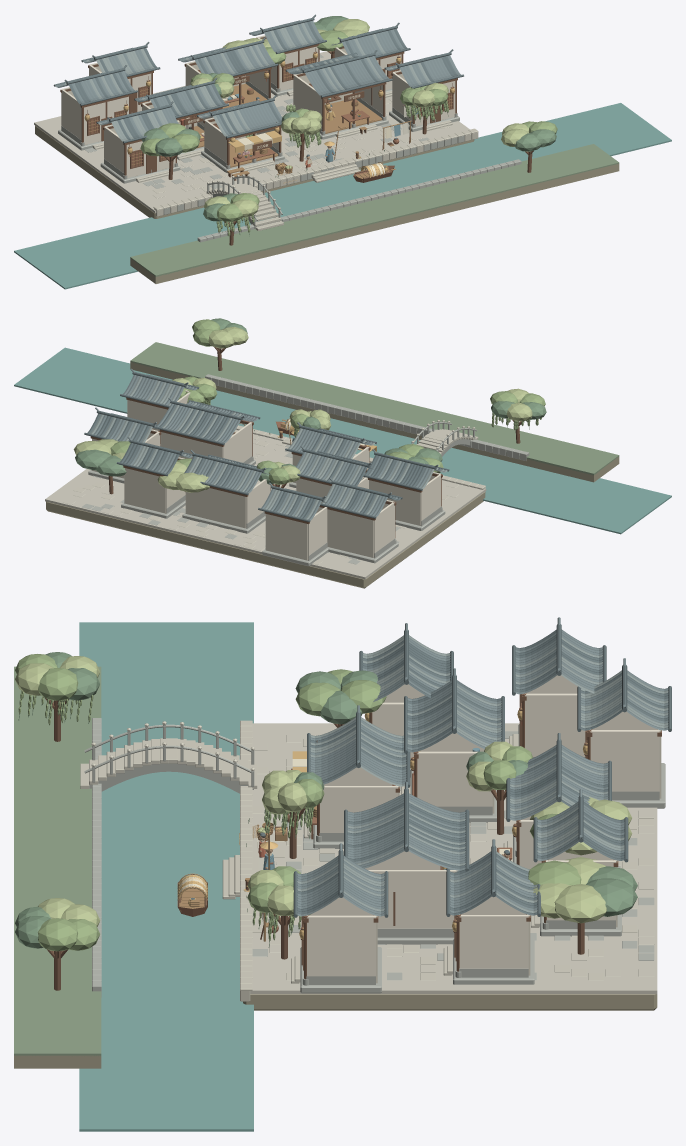
File: jinling.glb
3 renders of one model, top to bottom at view 1: azimuth 30°, elevation 25°; view 2: azimuth 150°, elevation 25°; view 3: azimuth 270°, elevation 25°, orthographic. The views are drawn at different scales.
Parts seen in each view (by area): view 1: static_canal_water, static_moss, static_street_paving, static_cut_earth, static_river_stone, static_worn_limestone, place_river_worn_limestone, place_tea_smoke_gray_roof, scenery_house_0_ivory_plaster, scenery_house_5_ivory_plaster, place_tea_ivory_plaster, place_cloth_wet_tile (+48 smaller); view 2: static_canal_water, static_moss, static_street_paving, static_cut_earth, static_river_stone, place_school_warm_lime_plaster, scenery_house_0_warm_lime_plaster, scenery_house_1_warm_lime_plaster, scenery_house_2_warm_lime_plaster, static_worn_limestone, place_tea_wet_tile, scenery_house_5_wet_tile (+51 smaller); view 3: static_canal_water, static_moss, static_street_paving, static_cut_earth, static_worn_limestone, place_river_worn_limestone, scenery_house_4_ivory_plaster, place_tea_ivory_plaster, static_river_stone, scenery_house_3_ivory_plaster, scenery_house_1_ivory_plaster, place_tea_smoke_gray_roof (+57 smaller).
Boxes of the visible parts, x1,y1,x2,y2 form: static_canal_water: [14, 103, 671, 289]; static_moss: [130, 144, 619, 276]; static_street_paving: [34, 51, 469, 213]; static_cut_earth: [35, 125, 619, 283]; static_river_stone: [85, 54, 521, 242]; static_worn_limestone: [152, 94, 478, 216]; place_river_worn_limestone: [206, 157, 360, 230]; place_tea_smoke_gray_roof: [287, 50, 389, 95]; scenery_house_0_ivory_plaster: [61, 89, 128, 144]; scenery_house_5_ivory_plaster: [104, 126, 175, 177]; place_tea_ivory_plaster: [293, 74, 382, 128]; place_cloth_wet_tile: [134, 81, 228, 118]; static_canal_water: [14, 347, 671, 534]; static_moss: [130, 342, 619, 475]; static_street_paving: [45, 429, 486, 579]; static_cut_earth: [46, 362, 619, 588]; static_river_stone: [82, 374, 529, 564]; place_school_warm_lime_plaster: [186, 488, 246, 528]; scenery_house_0_warm_lime_plaster: [327, 509, 373, 557]; scenery_house_1_warm_lime_plaster: [266, 514, 307, 560]; scenery_house_2_warm_lime_plaster: [125, 468, 165, 513]; static_worn_limestone: [73, 425, 485, 564]; place_tea_wet_tile: [155, 400, 260, 445]; scenery_house_5_wet_tile: [363, 452, 449, 490]; static_canal_water: [79, 622, 253, 1131]; static_moss: [14, 666, 101, 1056]; static_street_paving: [250, 723, 657, 994]; static_cut_earth: [14, 994, 657, 1068]; static_worn_limestone: [240, 720, 654, 1001]; place_river_worn_limestone: [80, 721, 259, 899]; scenery_house_4_ivory_plaster: [307, 897, 375, 976]; place_tea_ivory_plaster: [365, 851, 456, 928]; static_river_stone: [92, 718, 654, 997]; scenery_house_3_ivory_plaster: [459, 896, 528, 968]; scenery_house_1_ivory_plaster: [589, 711, 659, 791]; place_tea_smoke_gray_roof: [347, 782, 465, 870].
Size of the model in its own units: 55 by 6.55 by 30.17.
